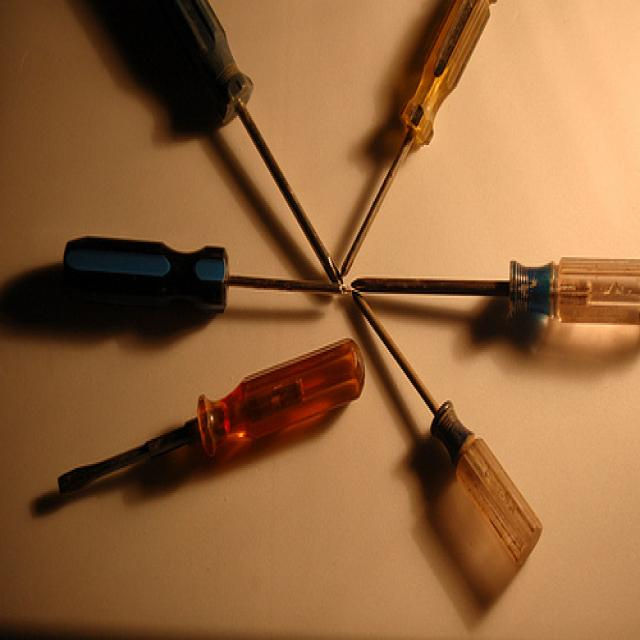screw driver: (346, 250, 540, 580)
